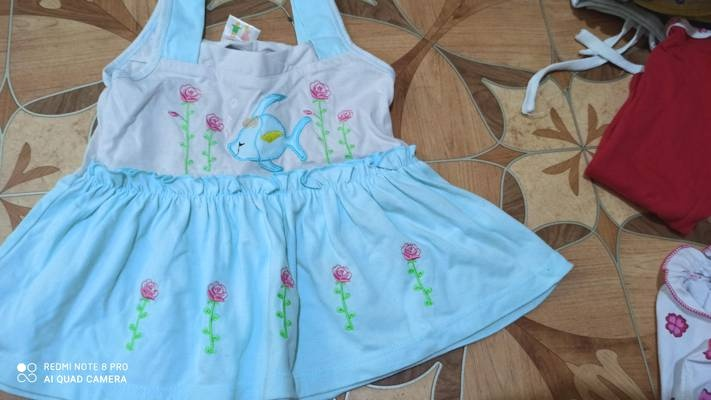Dress: (4, 4, 566, 398)
